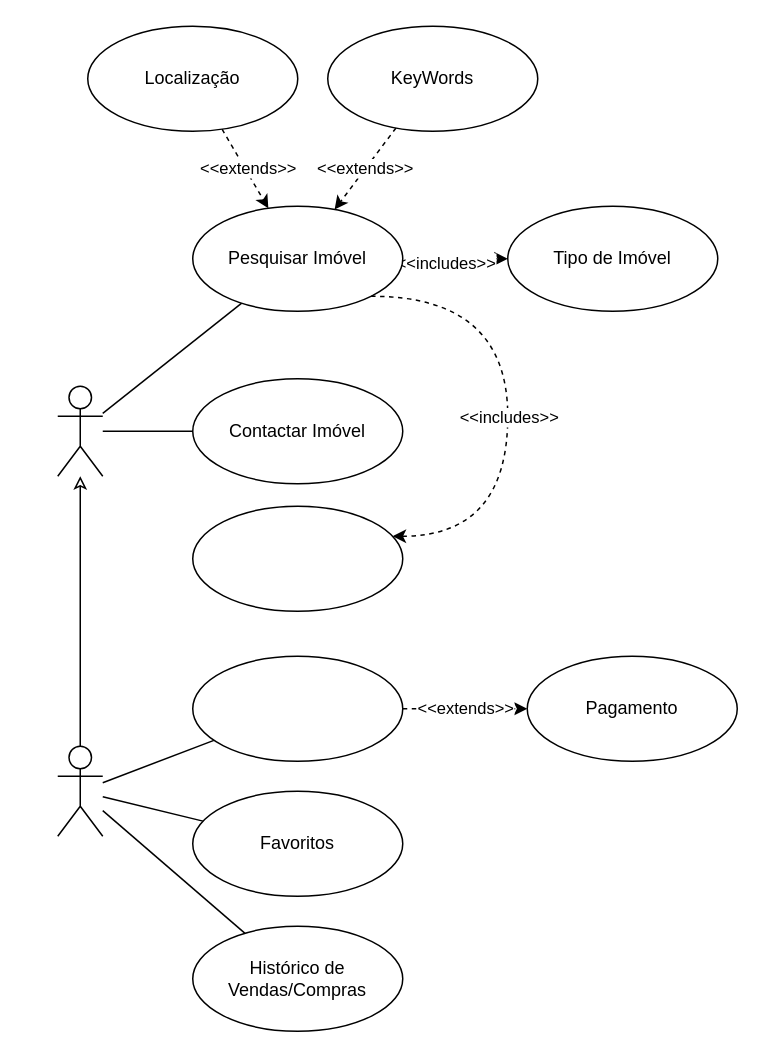
This 764x1058 diagram has some shape labels left out. Here are the shapes that lost their labels. From the top down, the centre of each, then its label:
At point (79, 430): "Cliente".
At point (297, 558): "Operação".
At point (297, 708): "Publicar Anúncio".
At point (79, 790): "Cliente (com sessão)".
